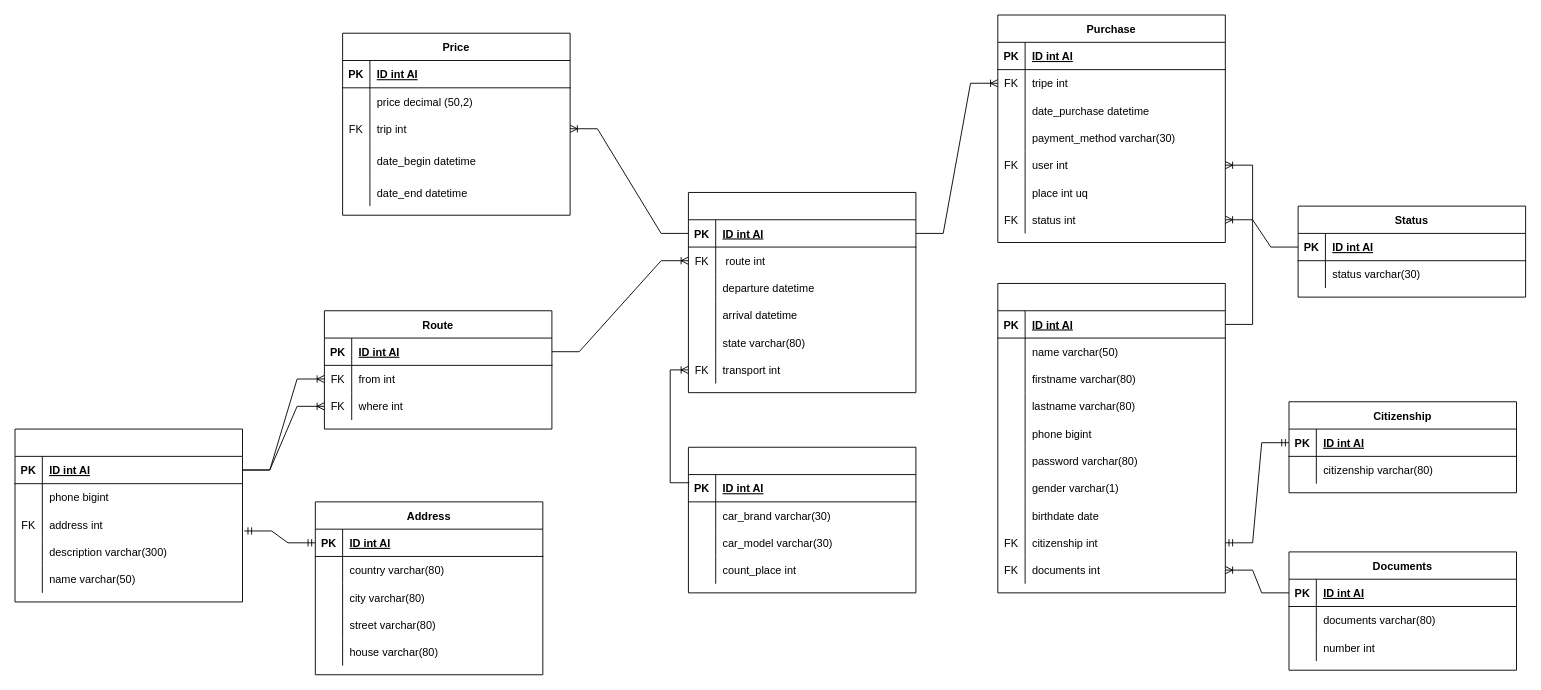
Some shapes in this 1541 by 690 pixel diagram are drawn without their labels. Each missing label, with the box of its shape:
Bus station: (14, 428, 243, 602)
Transport: (688, 446, 916, 593)
Tripe: (688, 192, 916, 393)
User: (997, 283, 1225, 593)
